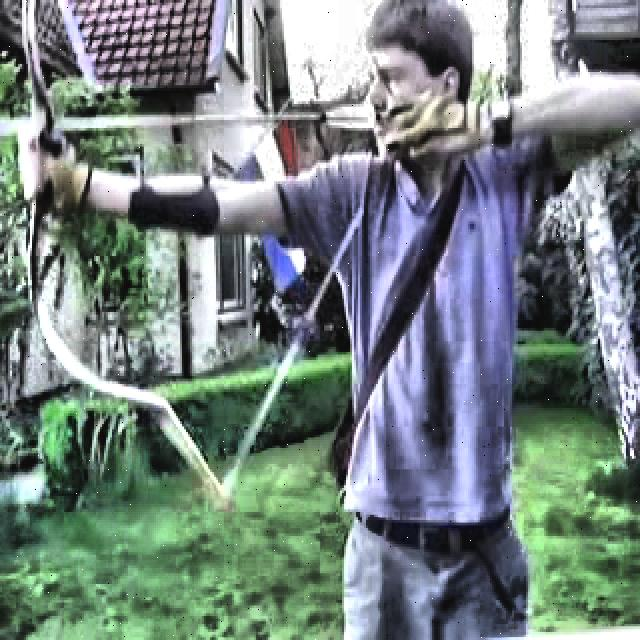P: (12, 2, 594, 640)
